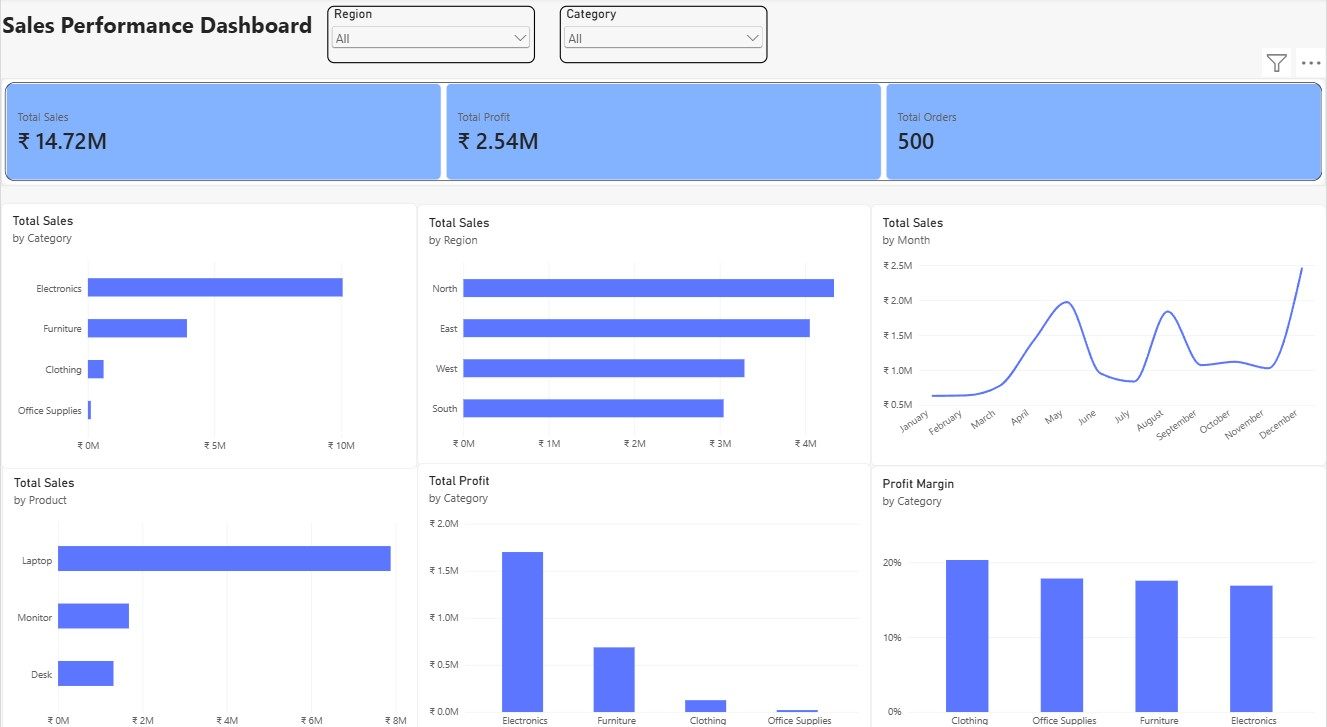

Layout of this report page (visuals, bound fields, positions):
{"tool":"powerbi","page":{"name":"Page 1","canvas":[1920,1080],"ordinal":0},"visuals":[{"type":"cardVisual","fields":{"Data":["power_bi_sales_project.Total_sales","power_bi_sales_project.Total_Profit","power_bi_sales_project.Total_Orders"]},"box":[0,117.6,1920.1,155.6],"z":0},{"type":"clusteredBarChart","fields":{"Category":["power_bi_sales_project.Category"],"Y":["power_bi_sales_project.Total_sales"]},"box":[0,298.6,602.6,383.6],"z":0,"group":"g1"},{"type":"clusteredBarChart","fields":{"Category":["power_bi_sales_project.Region"],"Y":["power_bi_sales_project.Total_sales"]},"box":[602.6,300.2,656.9,378.5],"z":1000,"group":"g1"},{"type":"clusteredBarChart","fields":{"Category":["power_bi_sales_project.Product"],"Y":["power_bi_sales_project.Total_sales"]},"box":[1.8,676.8,602.6,403.6],"z":1000},{"type":"group","id":"g1","title":"Group 1","box":[0,298.6,1920.1,383.6],"z":2000},{"type":"lineChart","fields":{"Category":["power_bi_sales_project.Order_Date.Variation.Date Hierarchy.Month"],"Y":["power_bi_sales_project.Total_sales"]},"box":[1259.5,300.5,660.5,378.5],"z":2000,"group":"g1"},{"type":"clusteredColumnChart","fields":{"Category":["power_bi_sales_project.Category"],"Y":["power_bi_sales_project.Total_Profit"]},"box":[602.6,675,656.9,405.4],"z":3000},{"type":"clusteredColumnChart","fields":{"Category":["power_bi_sales_project.Category"],"Y":["power_bi_sales_project.Profit Margin"]},"box":[1259.5,678.6,660.5,401.7],"z":4000},{"type":"textbox","box":[0,415,603,262],"z":5000},{"type":"textbox","box":[603,415,657,262],"z":6000},{"type":"textbox","box":[1260,415,660,262],"z":7000},{"type":"textbox","box":[1.8,0,512.1,68.8],"z":8000},{"type":"slicer","fields":{"Values":["power_bi_sales_project.Region"]},"box":[472.3,12.7,300.4,83.2],"z":8001},{"type":"slicer","fields":{"Values":["power_bi_sales_project.Category"]},"box":[808.9,12.7,300.4,83.2],"z":8002}]}

Visuals, with their boxes in screenshot pixels (x1, y1, x2, y2), scaled from the page's 1920x1080 canvas onto the 1327x727 screenshot:
cardVisual - power_bi_sales_project.Total_sales x power_bi_sales_project.Total_Profit: x1=0 y1=79 x2=1326 y2=184
clusteredBarChart - power_bi_sales_project.Category x power_bi_sales_project.Total_sales: x1=0 y1=201 x2=416 y2=459
clusteredBarChart - power_bi_sales_project.Region x power_bi_sales_project.Total_sales: x1=416 y1=202 x2=870 y2=457
clusteredBarChart - power_bi_sales_project.Product x power_bi_sales_project.Total_sales: x1=1 y1=456 x2=418 y2=726
"Group 1" group: x1=0 y1=201 x2=1326 y2=459
lineChart - power_bi_sales_project.Order_Date.Variation.Date Hierarchy.Month x power_bi_sales_project.Total_sales: x1=870 y1=202 x2=1326 y2=457
clusteredColumnChart - power_bi_sales_project.Category x power_bi_sales_project.Total_Profit: x1=416 y1=454 x2=870 y2=726
clusteredColumnChart - power_bi_sales_project.Category x power_bi_sales_project.Profit Margin: x1=870 y1=457 x2=1326 y2=726
textbox: x1=0 y1=279 x2=417 y2=456
textbox: x1=417 y1=279 x2=871 y2=456
textbox: x1=871 y1=279 x2=1326 y2=456
textbox: x1=1 y1=0 x2=355 y2=46
slicer - power_bi_sales_project.Region: x1=326 y1=9 x2=534 y2=65
slicer - power_bi_sales_project.Category: x1=559 y1=9 x2=767 y2=65
